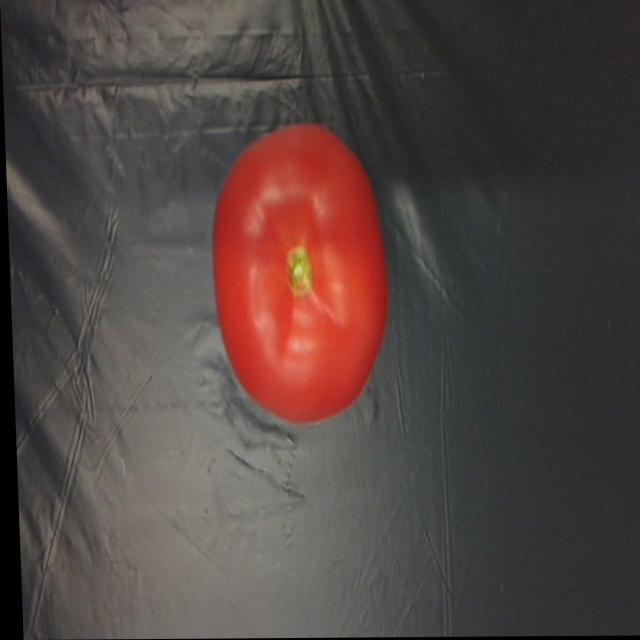kirmizi: (198, 127, 388, 420)
